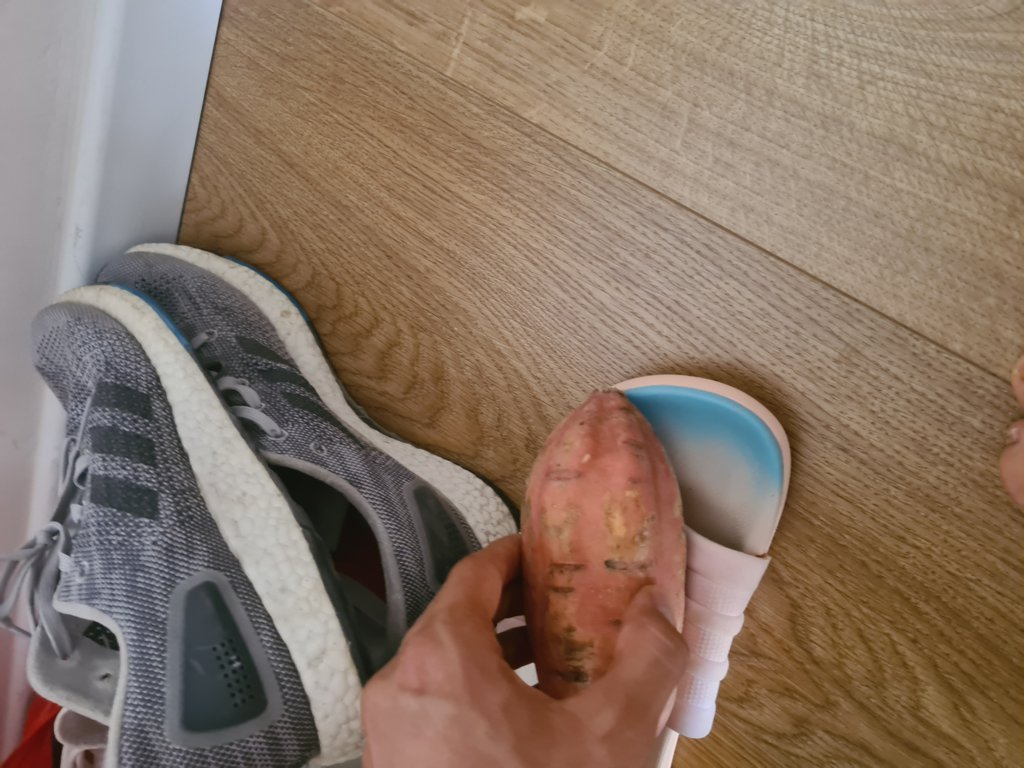Sweet Potatow: (525, 381, 684, 693)
